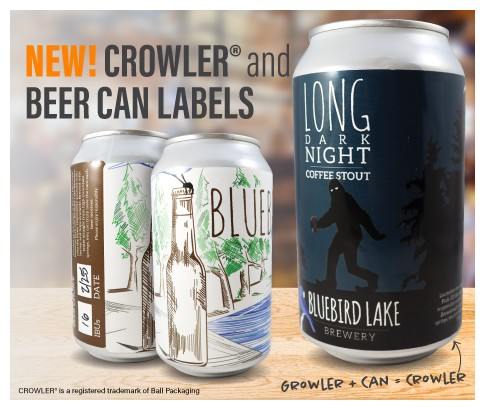beer can: (289, 19, 466, 366), (151, 134, 271, 378), (69, 130, 168, 363)
